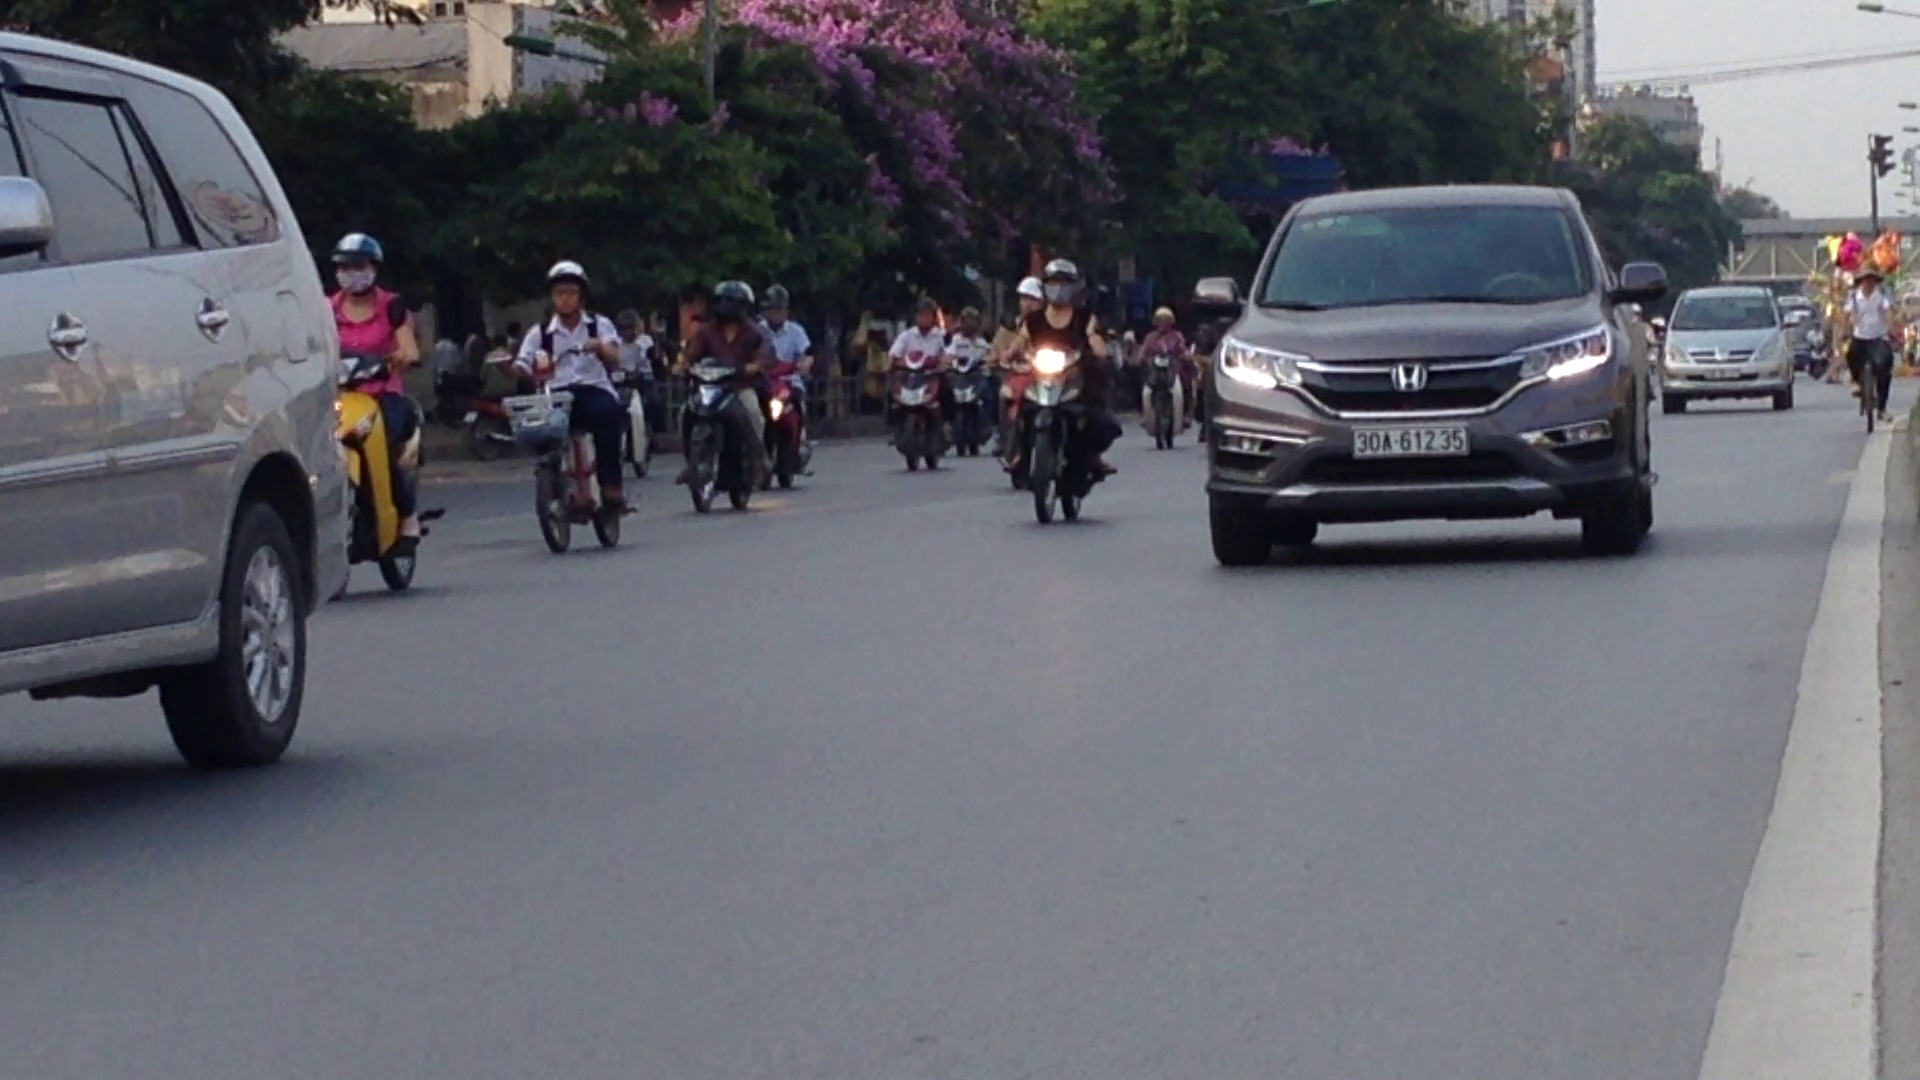person: (1347, 418, 1470, 460)
